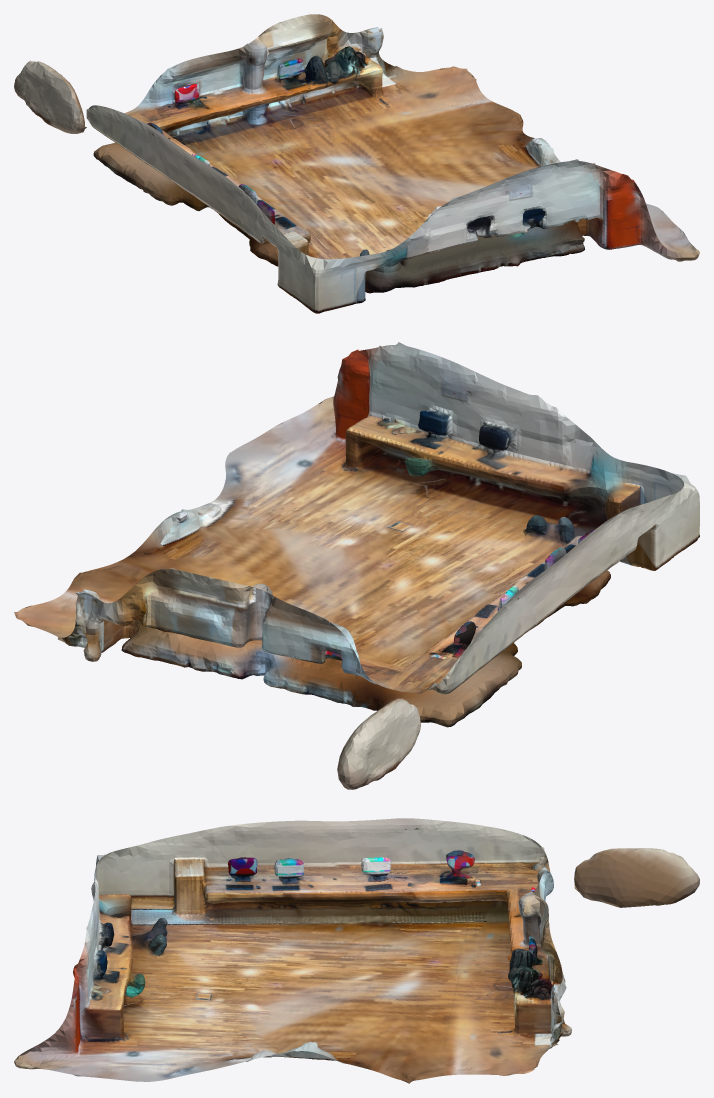
The picture shows the model from 3 angles, top to bottom: view 1: azimuth 30°, elevation 25°; view 2: azimuth 150°, elevation 25°; view 3: azimuth 270°, elevation 25°; orthographic projection. The views are drawn at different scales.
Size of the model in its own units: 7.69 by 2 by 11.91.
Materials: 1 (1 with a texture image).
